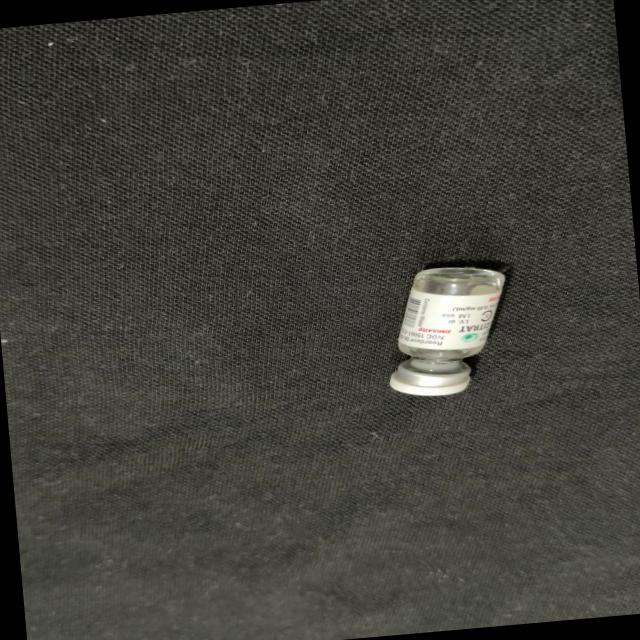fentanl_citrat: (382, 262, 514, 396)
